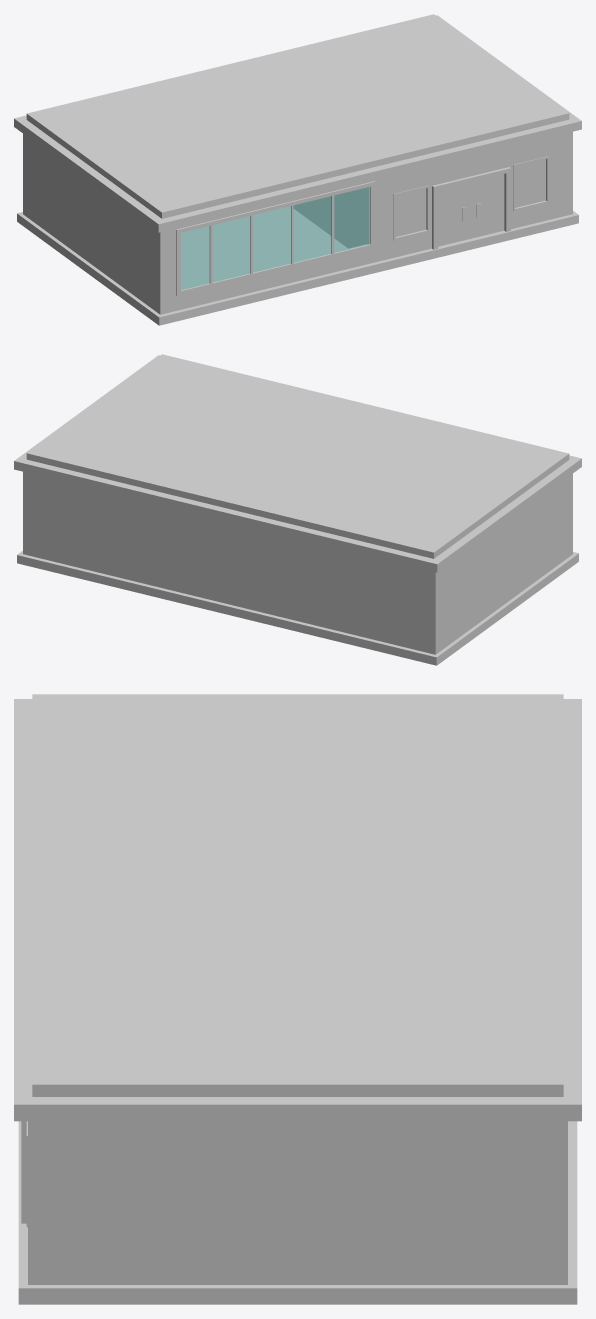
Rendered from gas station (2).fbx.
3 views of the same model, one above another, from view 1: azimuth 30°, elevation 25°; view 2: azimuth 150°, elevation 25°; view 3: azimuth 270°, elevation 25° (orthographic). The views are drawn at different scales.
Visible parts, largest first — view 1: Cube.015, Cube.012, Cube.017, Cube.120, Cube.111, Cube.021, Cube.022, Cube.018, Cube.014, Cube.020, Cube.119, Cube.113; view 2: Cube.015, Cube.012, Cube.017, Cube.111, Cube.113; view 3: Cube.015, Cube.012, Cube.017, Cube.113, Cube.111.
Part boxes in pixels (<box>): Cube.015: <box>14,14,581,232</box>; Cube.012: <box>23,131,572,314</box>; Cube.017: <box>17,206,578,325</box>; Cube.120: <box>181,187,369,290</box>; Cube.111: <box>294,149,546,248</box>; Cube.021: <box>396,159,545,236</box>; Cube.022: <box>472,174,504,238</box>; Cube.018: <box>438,182,469,246</box>; Cube.014: <box>432,167,510,249</box>; Cube.020: <box>393,156,548,240</box>; Cube.119: <box>209,195,334,283</box>; Cube.113: <box>396,16,572,174</box>; Cube.015: <box>14,354,581,572</box>; Cube.012: <box>23,471,572,654</box>; Cube.017: <box>17,551,578,665</box>; Cube.111: <box>135,518,226,603</box>; Cube.113: <box>14,355,230,520</box>; Cube.015: <box>14,694,581,1121</box>; Cube.012: <box>28,1121,567,1284</box>; Cube.017: <box>18,1121,577,1304</box>; Cube.113: <box>14,899,581,1120</box>; Cube.111: <box>28,1121,516,1284</box>.
Bounding box in the file's own units: 2376 × 585 × 1406.
